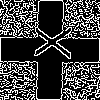X: (25, 25, 71, 59)
